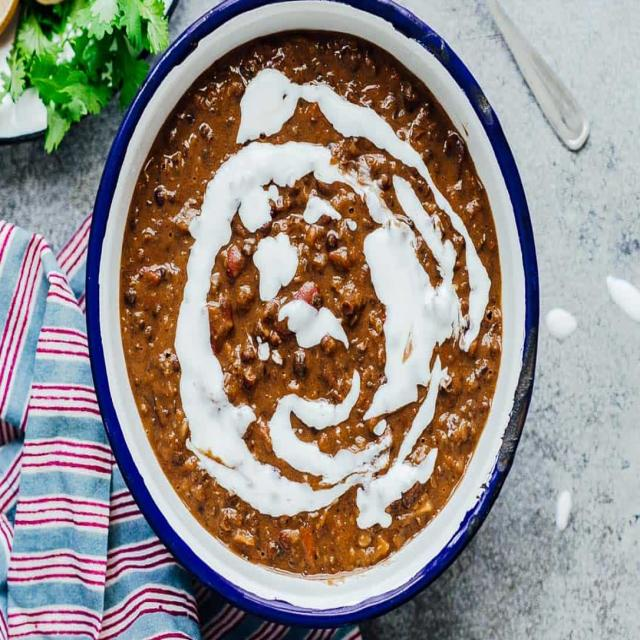chai: (16, 68, 269, 466), (313, 50, 549, 461)
